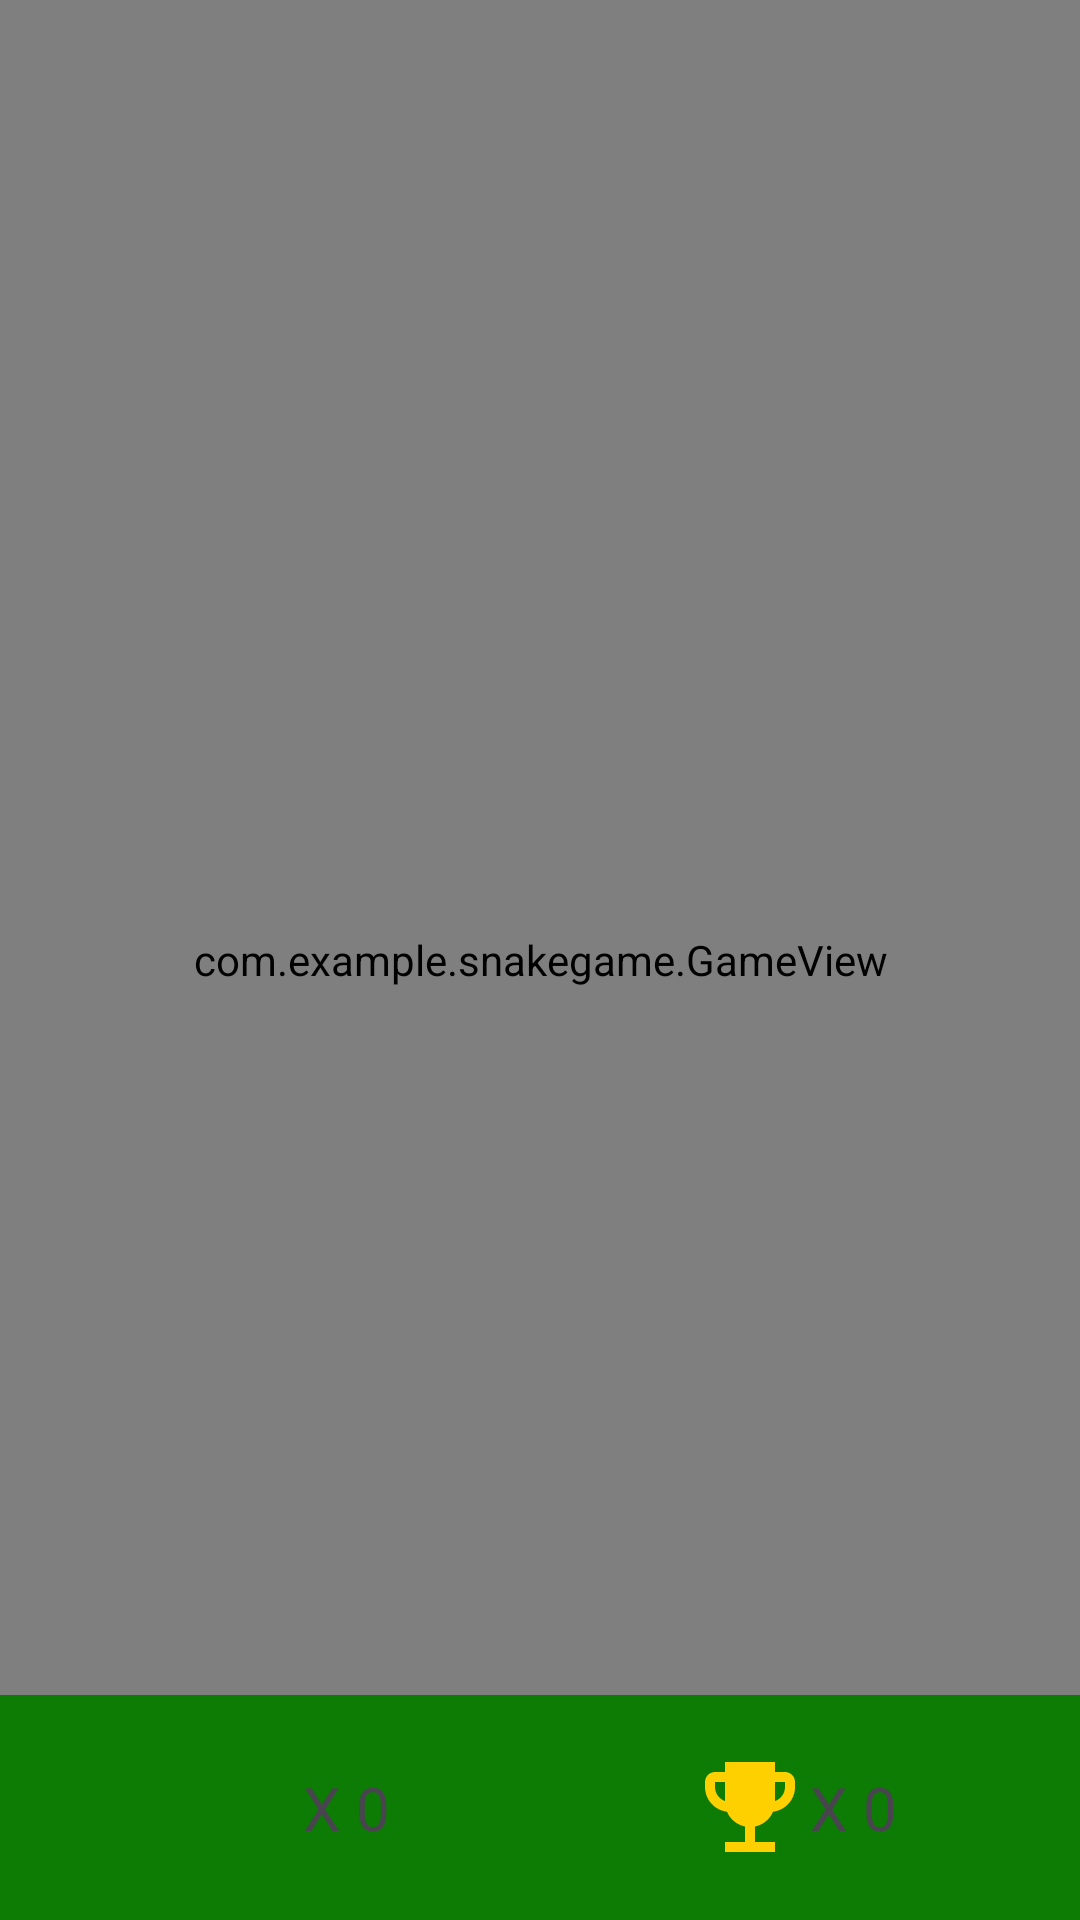

Icons on this 1080px×1920px Android screen, each with the point to tap as (x=x, y=y):
emoji events: (x=750, y=1807)
